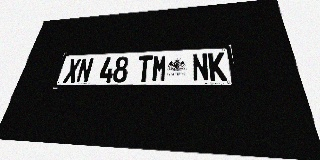4: (98, 57, 116, 83)
8: (112, 56, 130, 83)
K: (208, 52, 227, 81)
M: (151, 55, 167, 82)
N: (192, 53, 209, 82), (75, 58, 94, 83)
T: (136, 55, 153, 82)
X: (63, 58, 82, 83)
